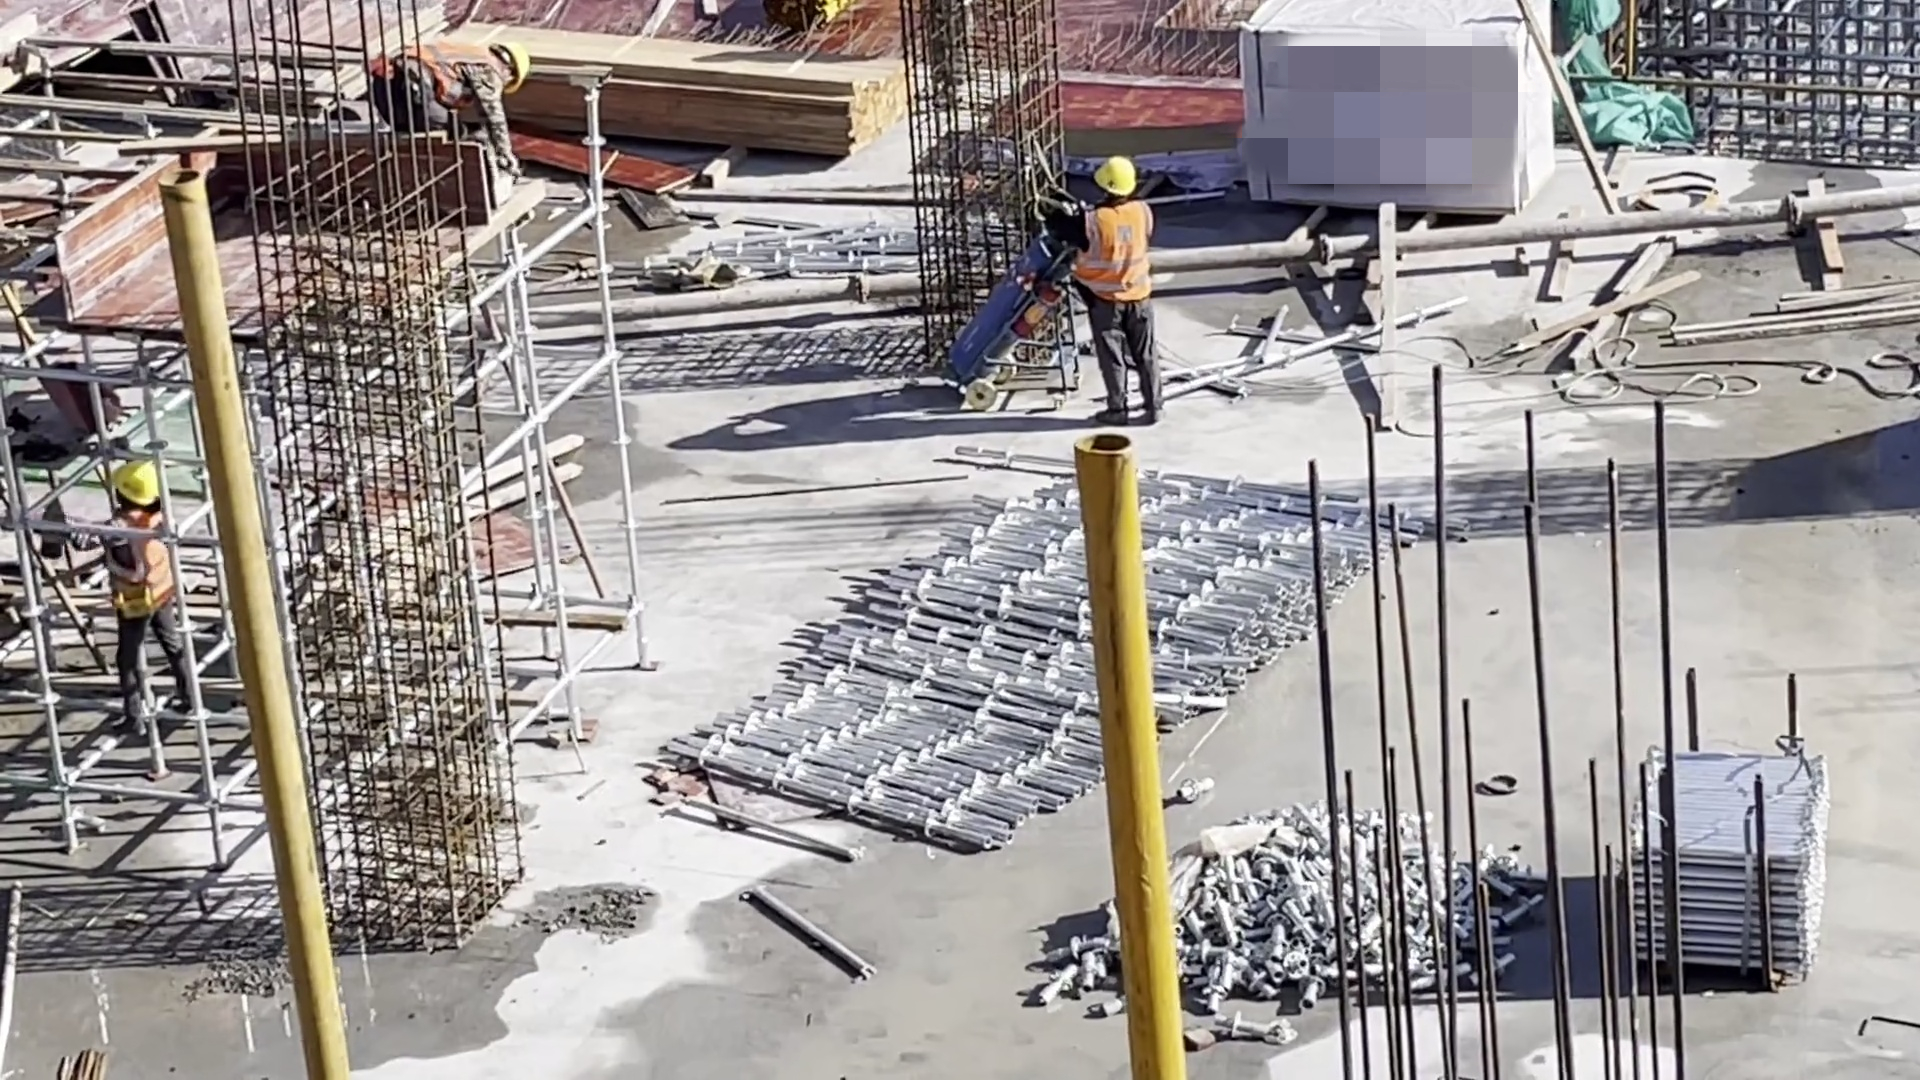helmet: (111, 461, 159, 510), (496, 43, 531, 105), (1094, 158, 1135, 203)
person: (1038, 160, 1180, 422), (99, 461, 207, 728), (374, 39, 534, 164)
scaffold: (661, 453, 1422, 855), (1628, 737, 1832, 978)
vest: (1076, 205, 1158, 306), (106, 510, 178, 613), (380, 43, 488, 99)
wood: (535, 38, 914, 160)
